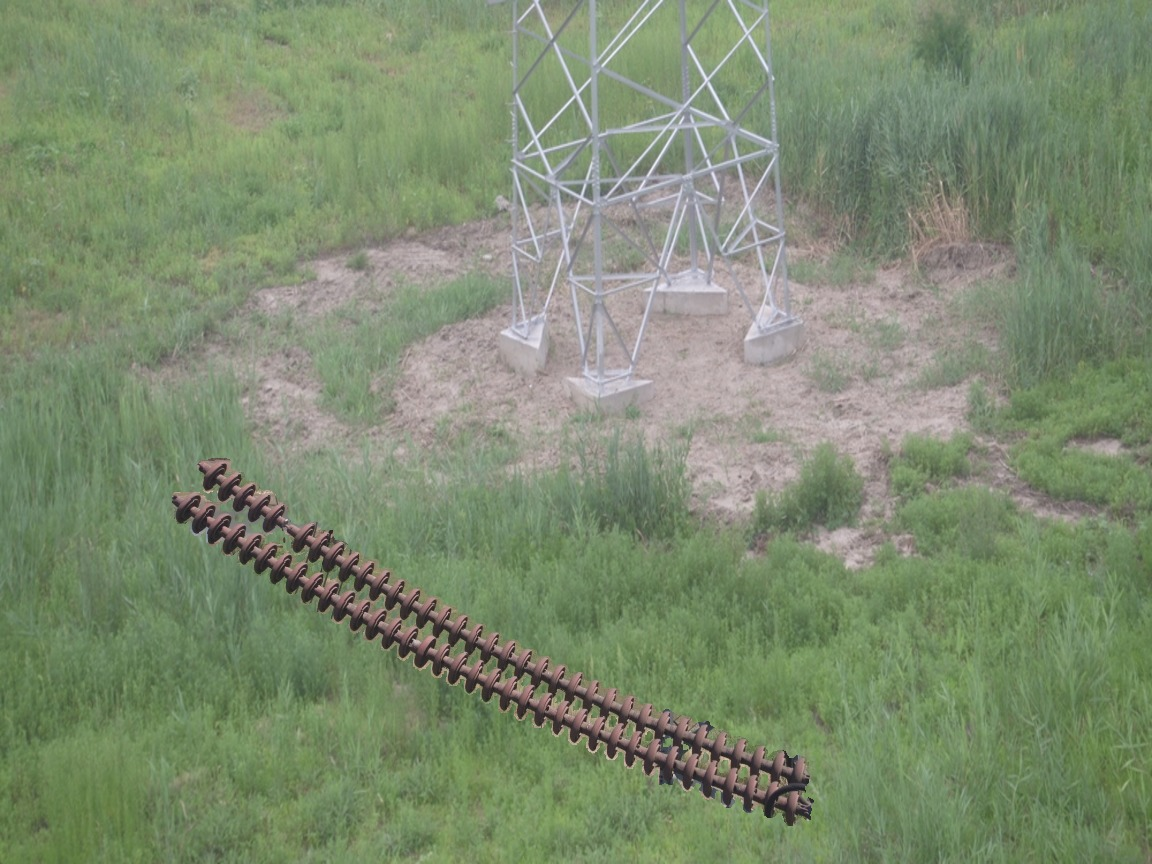defect: (260, 502, 318, 552)
